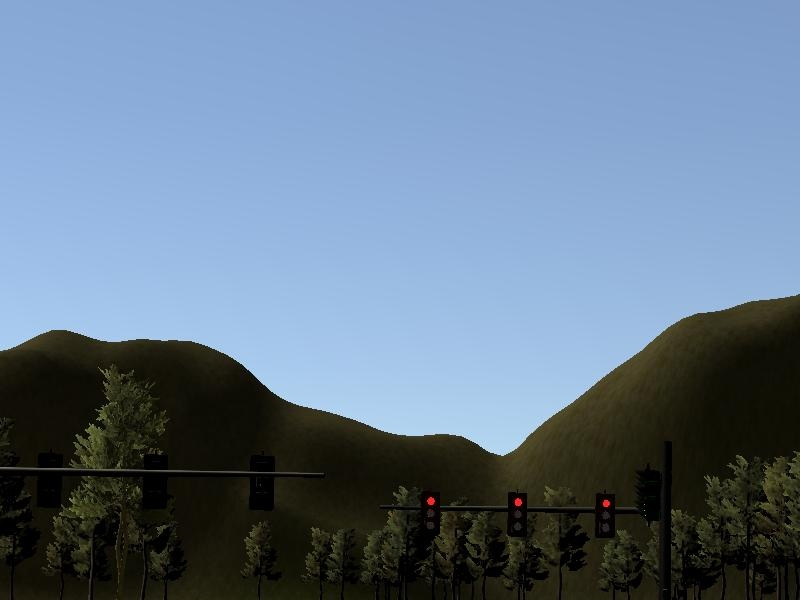traffic_light_red: (405, 490, 645, 541)
